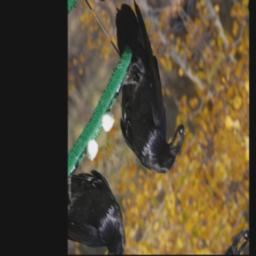Crow: (81, 0, 204, 194)
